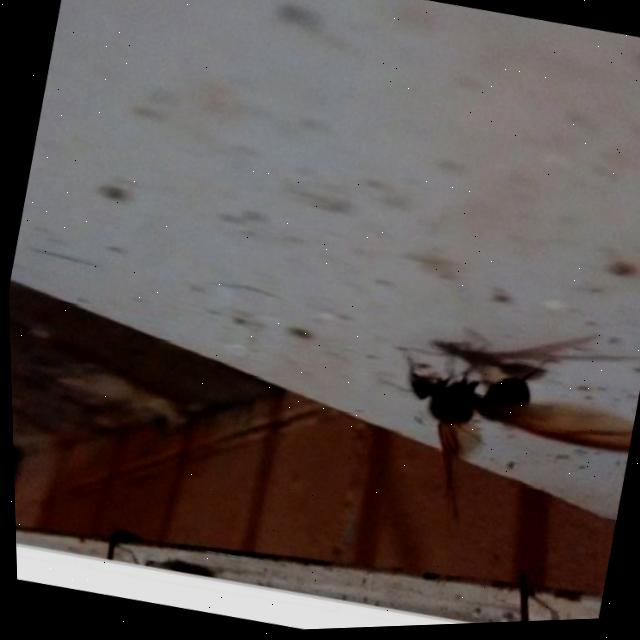Alive-Female-Alate: (347, 327, 640, 566)
